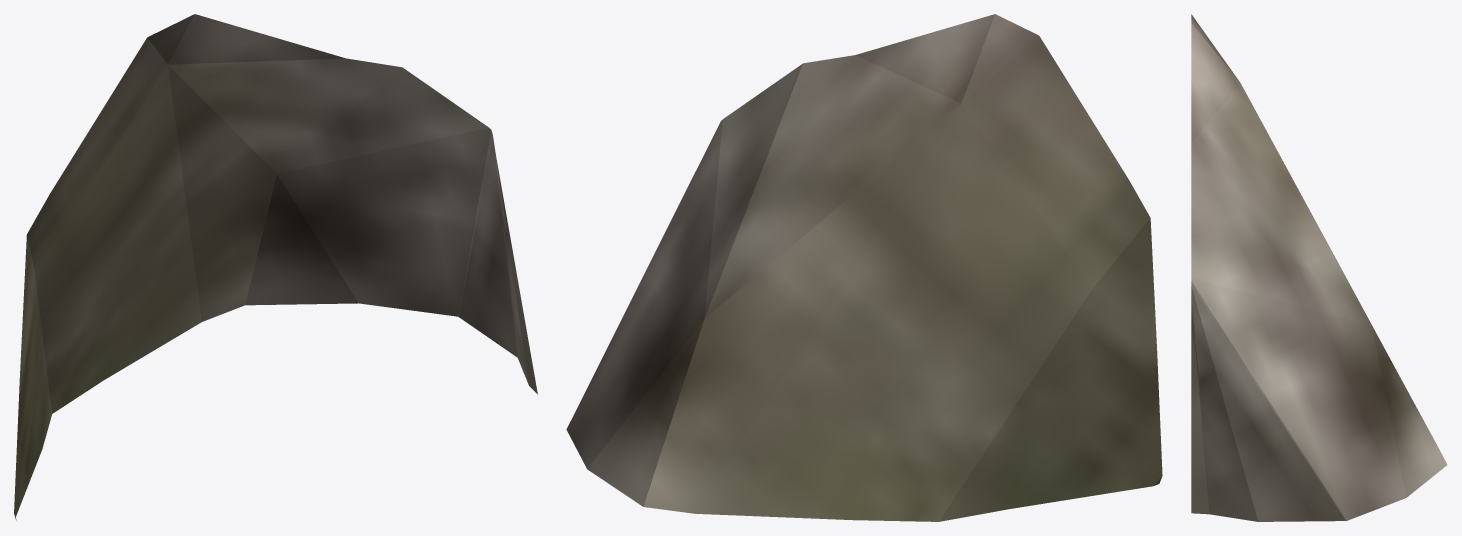
3 views of the same model, side by side, from view 1: azimuth 30°, elevation 25°; view 2: azimuth 150°, elevation 25°; view 3: azimuth 270°, elevation 25° (orthographic). The views are drawn at different scales.
Size of the model in its own units: 0.3276 by 0.266 by 0.1713.
1 material, 1 textured.
